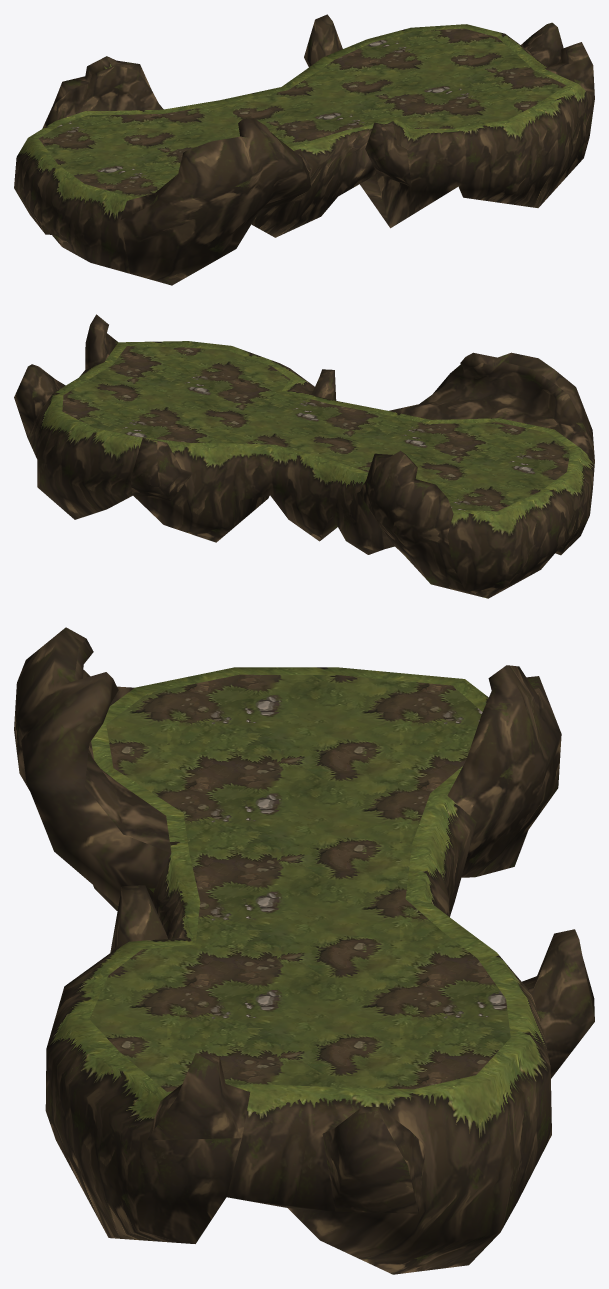
The model's file is F2_dixing_03.FBX.
3 views of the same model, one above another, from view 1: azimuth 30°, elevation 25°; view 2: azimuth 150°, elevation 25°; view 3: azimuth 270°, elevation 25° (orthographic). The views are drawn at different scales.
Visible parts, largest first — view 1: 对象28, 对象01; view 2: 对象28, 对象01; view 3: 对象28, 对象01.
Boxes of the visible parts, x1,y1,x2,y2 form: 对象28: (14, 14, 594, 285); 对象01: (39, 28, 566, 196); 对象28: (14, 314, 594, 598); 对象01: (62, 346, 570, 511); 对象28: (14, 627, 594, 1274); 对象01: (89, 674, 510, 1091).
Bounding box in the file's own units: 22.58 × 6.86 × 11.52.
